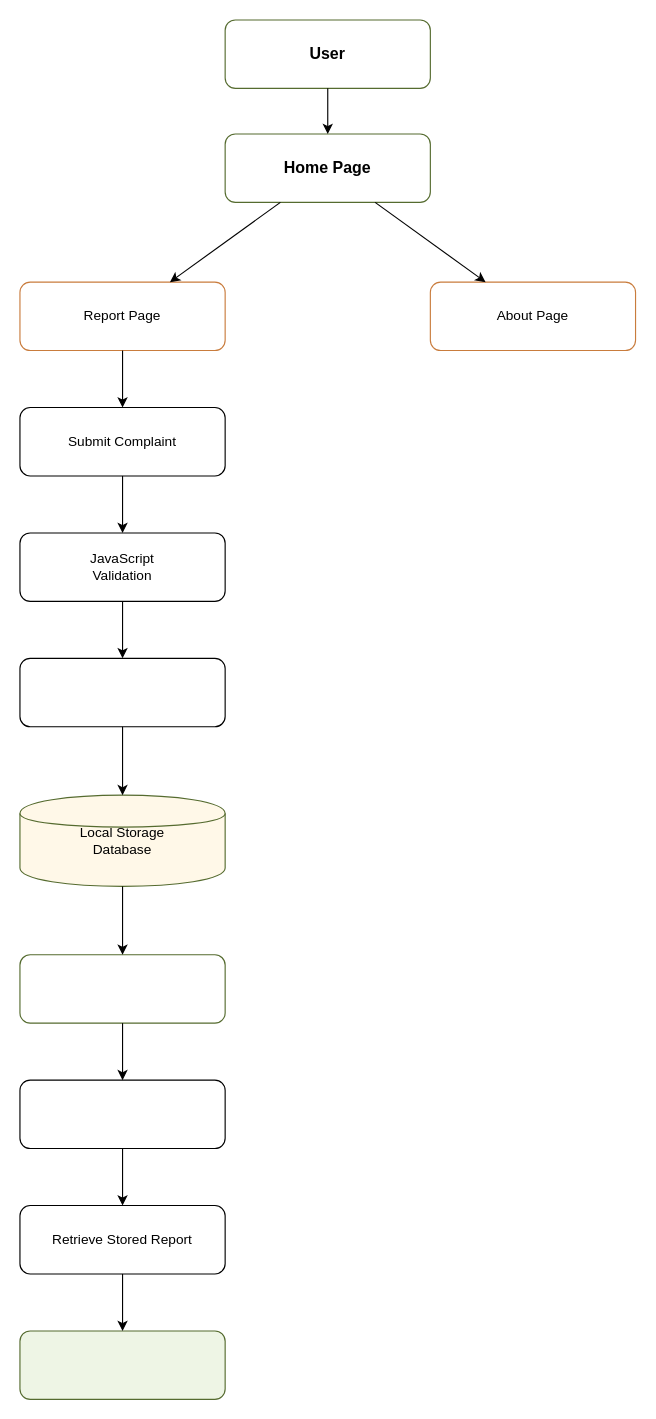
Some shapes in this 656 by 1419 pixel diagram are drawn without their labels. Here are the shapes that lost their labels. From the top down, the centre of each, then its label:
At [122,692]: "Complaint ID Generator".
At [122,988]: "Track Page".
At [122,1114]: "Search Complaint ID".
At [122,1364]: "Display Status".
